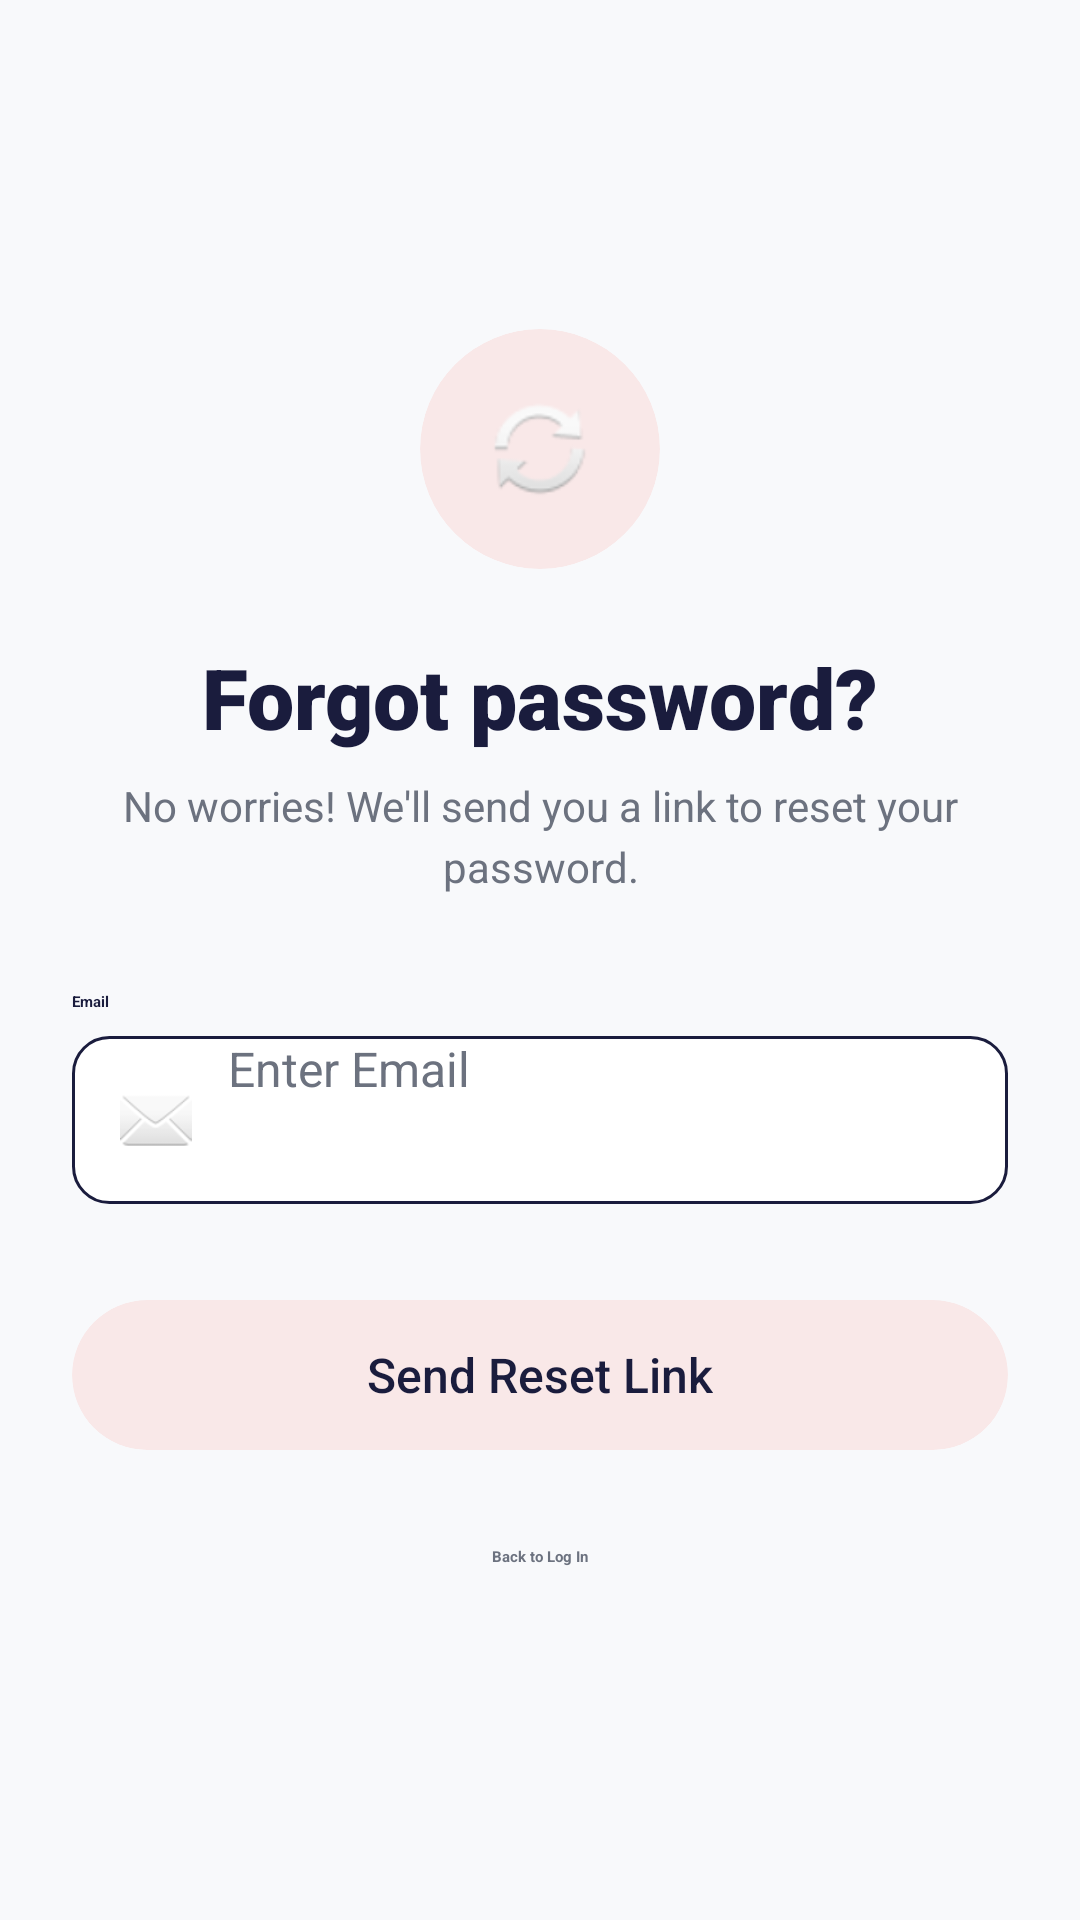

Named icons in this screenshot (1080 × 1920) and their bounding boxes, bbox=(x1, y1, x2, y2):
popup sync: bbox=(420, 329, 660, 569)
